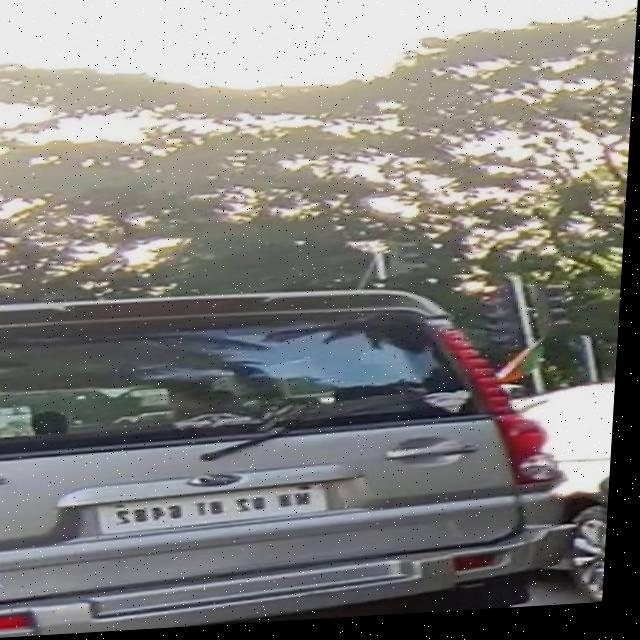plate: (104, 486, 335, 539)
